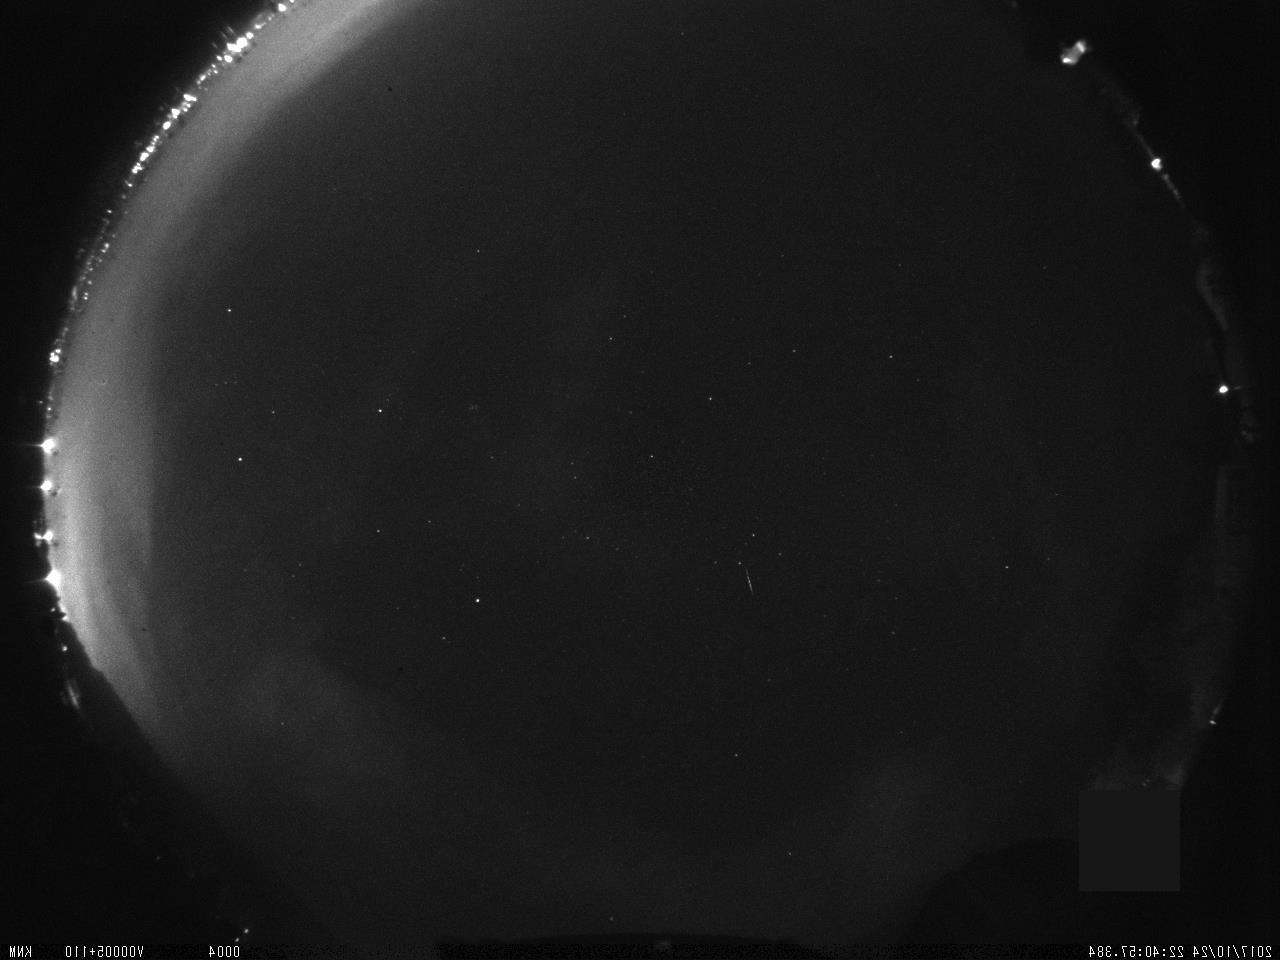meteor: (725, 560, 774, 611)
